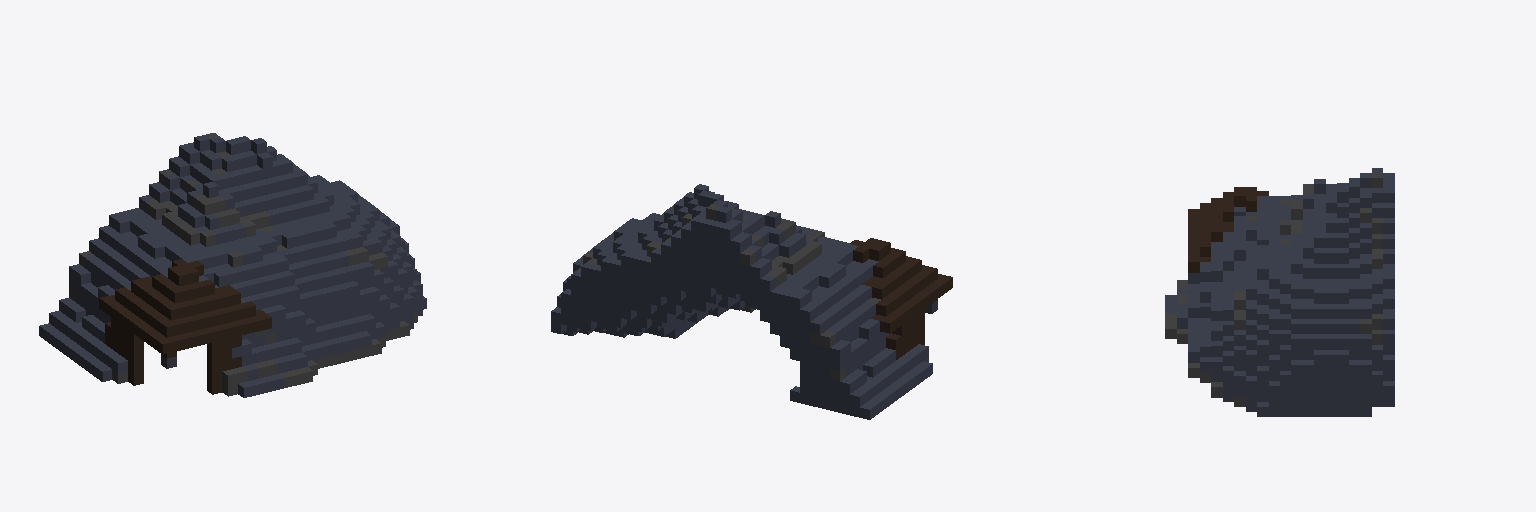
3 views of the same model, side by side, from view 1: azimuth 30°, elevation 25°; view 2: azimuth 150°, elevation 25°; view 3: azimuth 270°, elevation 25° (orthographic).
Parts seen in each view (by area): view 1: map_cdg_sculpted_v2-1; view 2: map_cdg_sculpted_v2-1; view 3: map_cdg_sculpted_v2-1.
Boxes of the visible parts, x1=… form: map_cdg_sculpted_v2-1: x1=39, y1=133, x2=426, y2=397; map_cdg_sculpted_v2-1: x1=551, y1=184, x2=952, y2=419; map_cdg_sculpted_v2-1: x1=1165, y1=168, x2=1394, y2=416.
Bounding box in the file's own units: 32 × 16 × 20.
Materials: 1 (1 with a texture image).